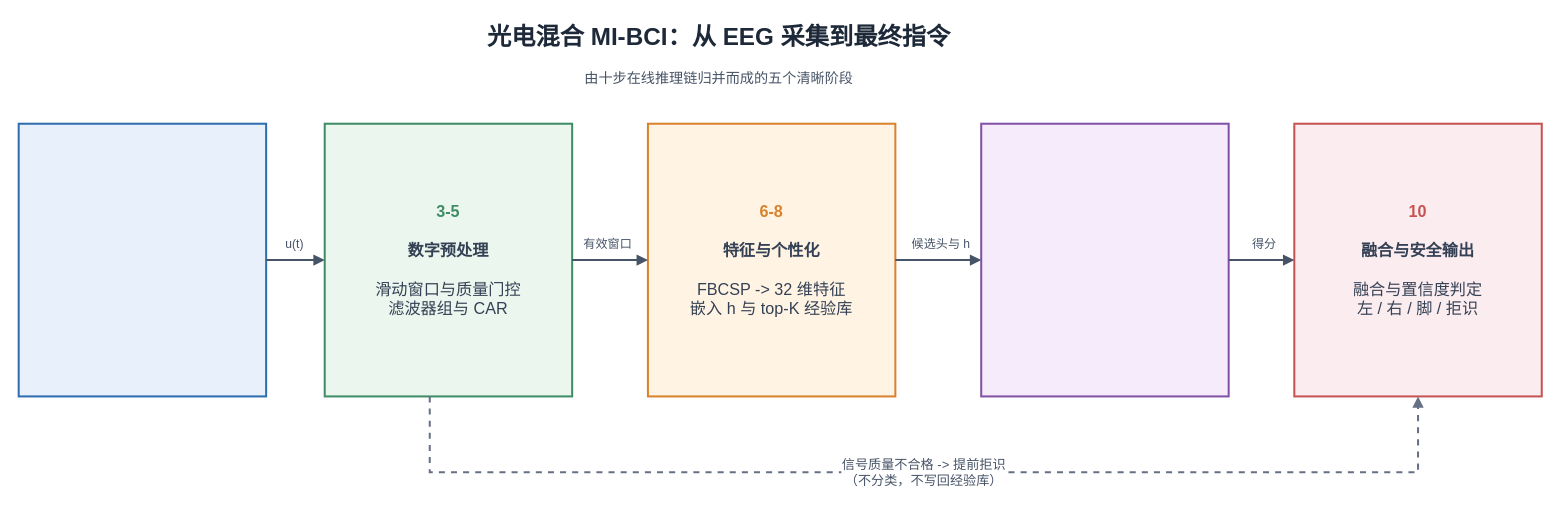
The diagram is 1559 pixels wide and 505 high, and some of its shapes have lost their labels. The shapes that lost their labels are listed below. From the top down, each one's box as (x1, y1, x2, y2) in pixels, then its label:
(17, 122, 267, 397): 1-2 采集与对齐 Cyton 计数 r(t) 微伏换算与通道映射
(980, 122, 1229, 397): 9 Gazelle 特化定制扫描头 [A | b] [h ; 1] 2 x 8 tile 矩阵乘
